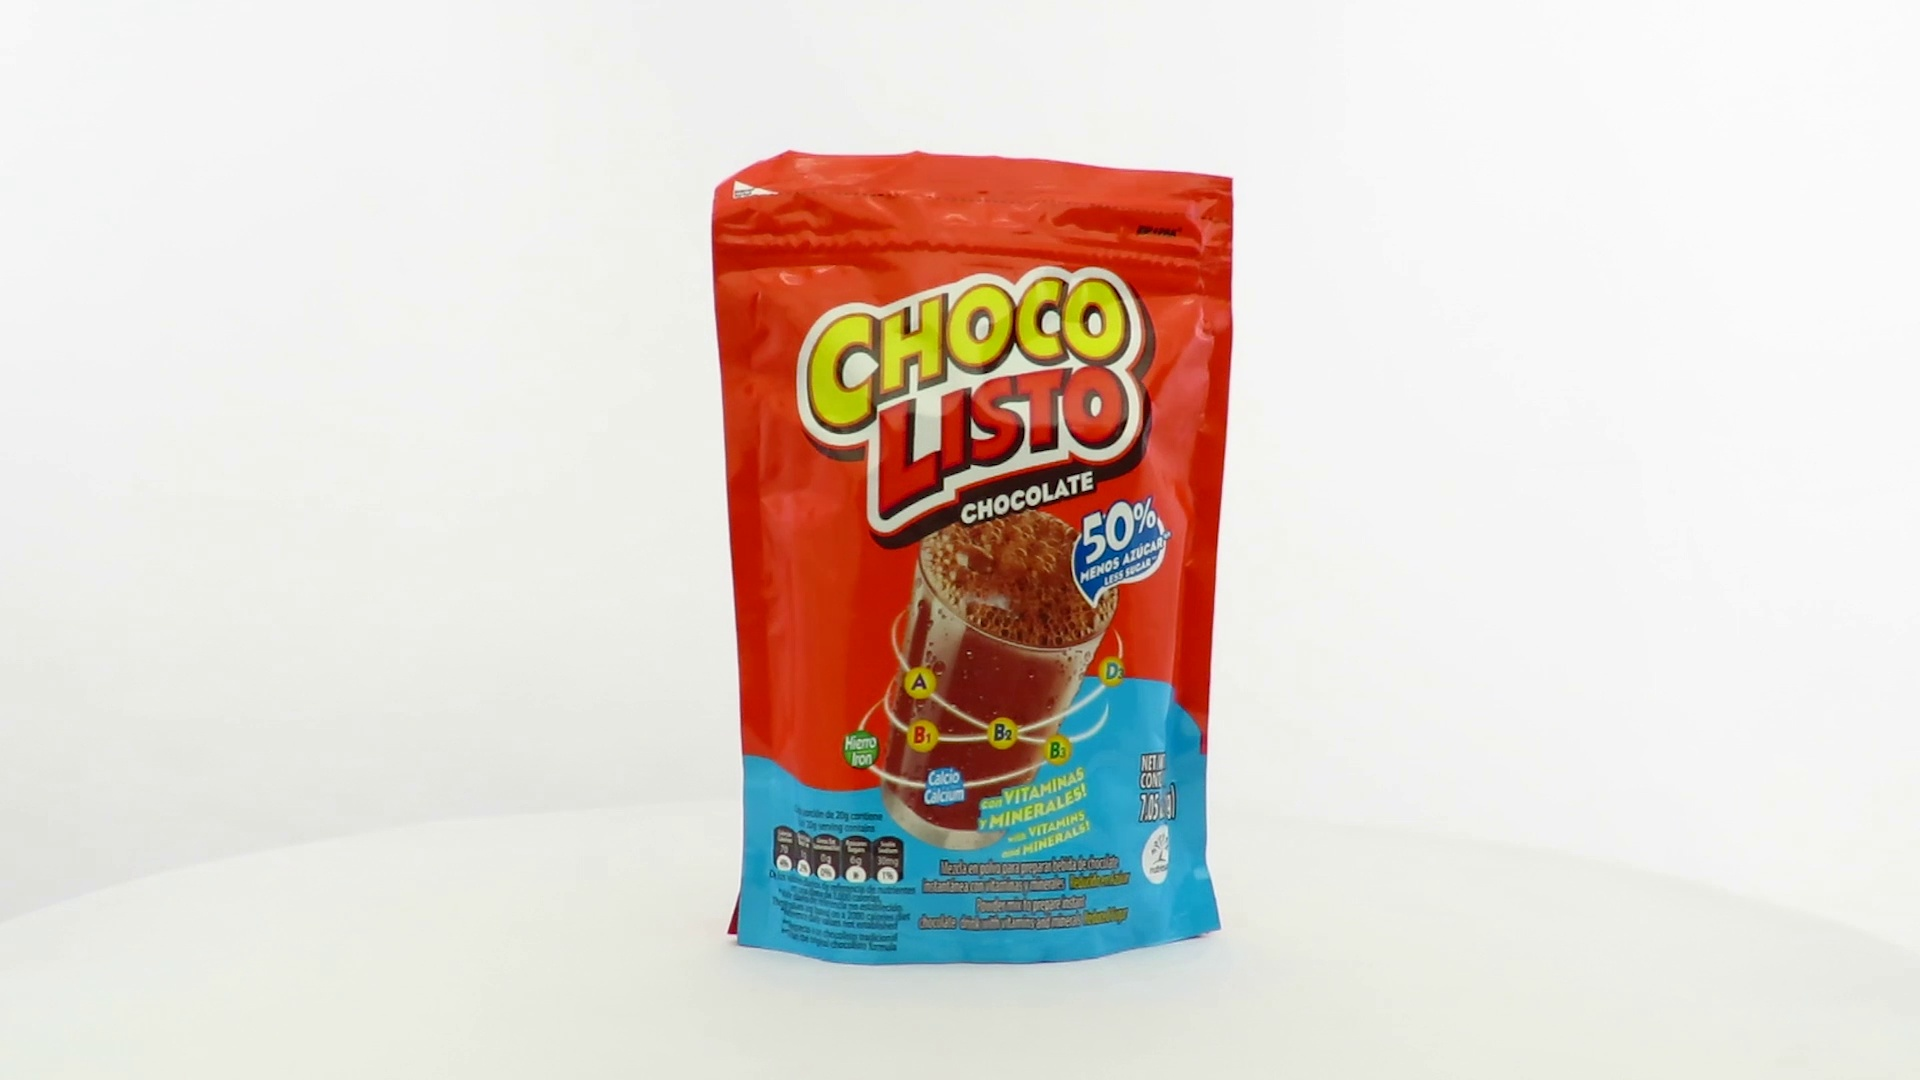COL0170104DYP20000: (705, 145, 1240, 972)
